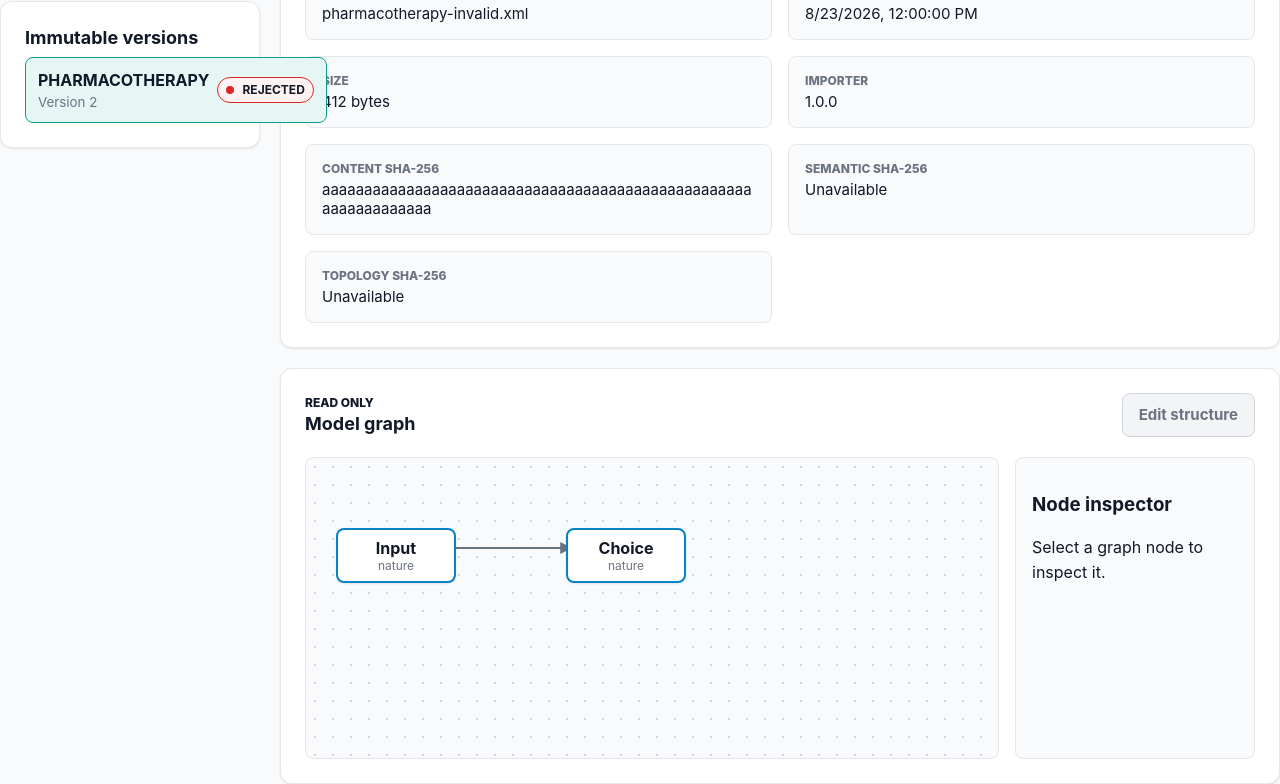
it: BN Manager › keeps software diagnostics separate from evidence and inspects graph nodes
(page scrolled)
What coordinates should you click on to do the following:
click the button "Choice nature"
I would click on:
 (626, 556)
Its box is [566,528,686,583].
(page scrolled)
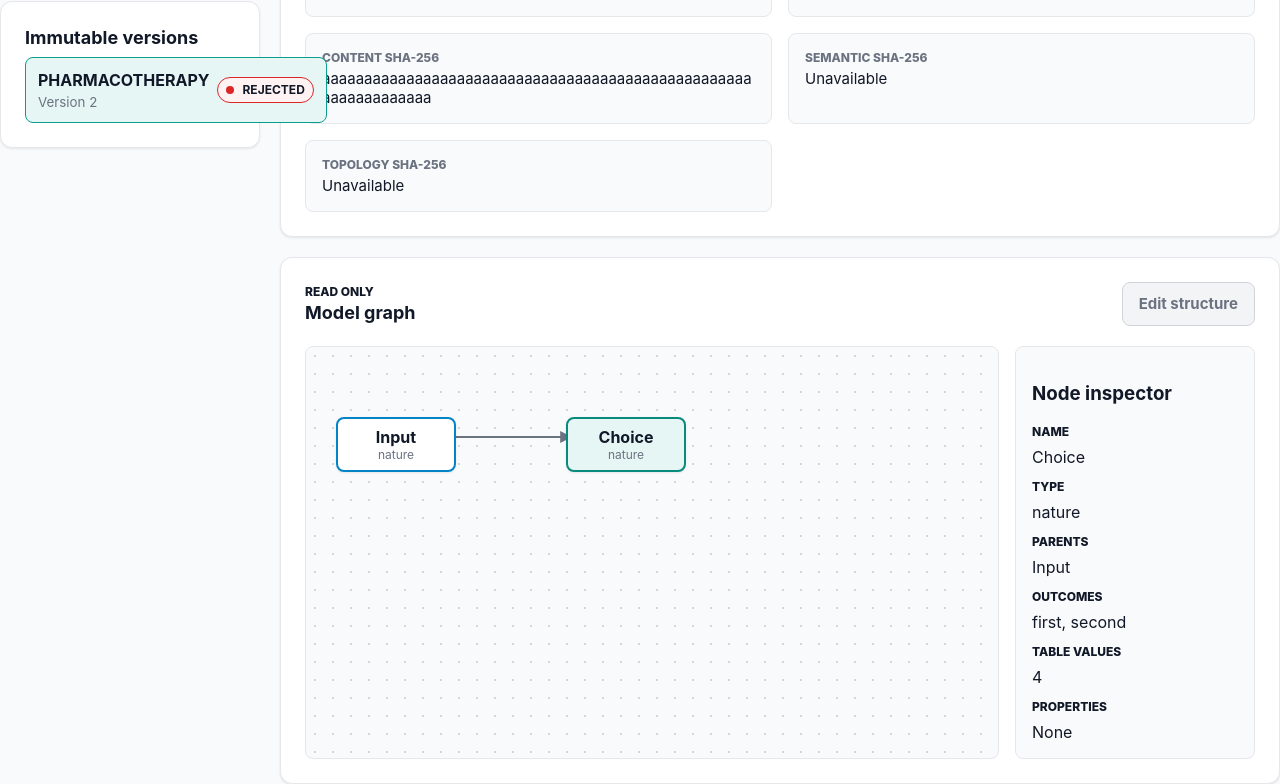
Check: the element "Node inspector" shows "Input", box [1032,557,1070,577]
Check: the element "Node inspector" shows "first, second", box [1032,612,1126,632]
